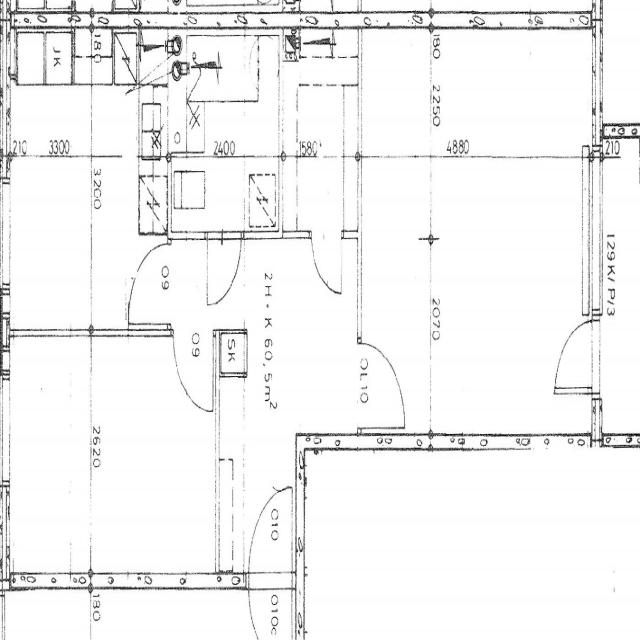door: (249, 490, 291, 589), (358, 343, 406, 428), (554, 319, 602, 394), (173, 328, 213, 415), (127, 244, 171, 322), (249, 572, 291, 640), (207, 231, 241, 303), (311, 231, 341, 297)
